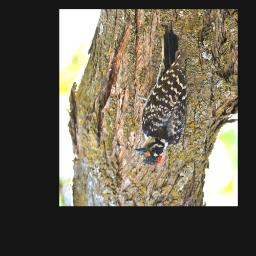Woodpecker: (135, 23, 184, 168)
